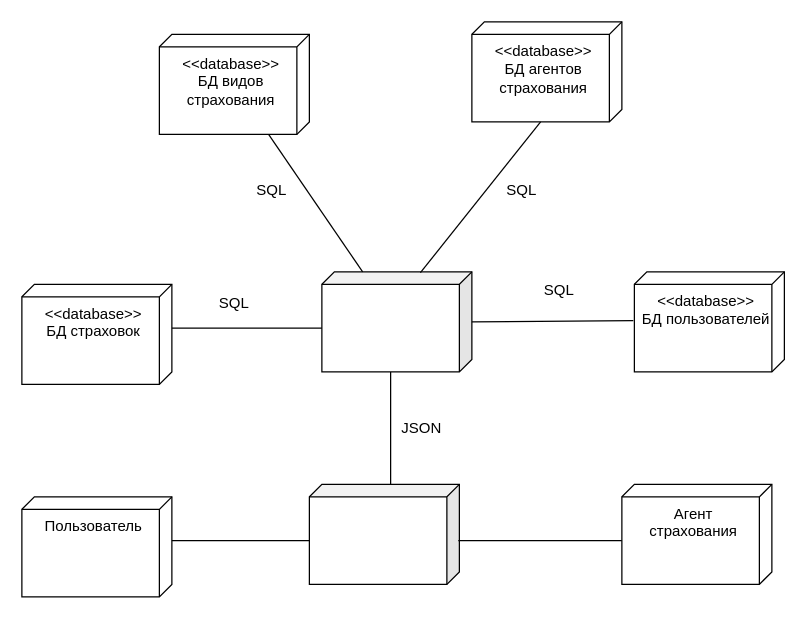
This 806x619 diagram has some shape labels left out. Here are the shapes that lost their labels. From the top down, the centre of each, then its label:
At point 396,321: "Сервер системы".
At point 383,533: "Агентство страхования".
